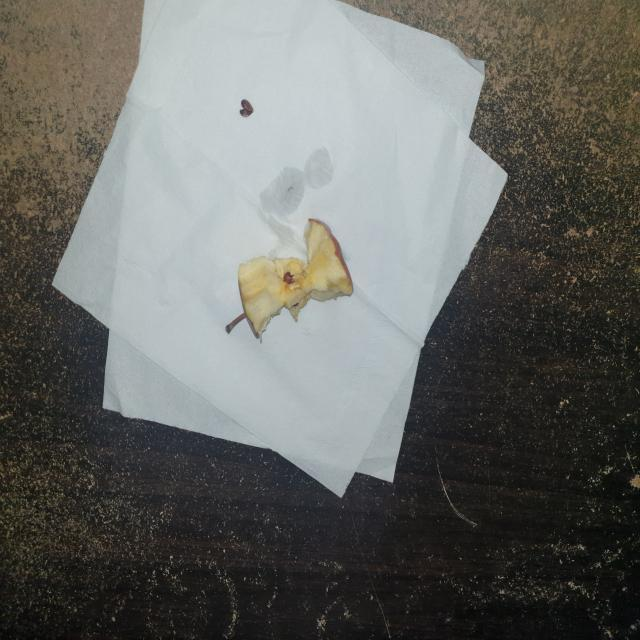apple: (219, 211, 358, 351)
